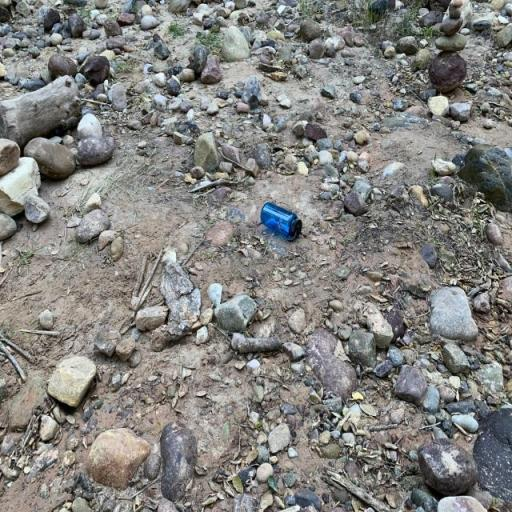bottle: (261, 202, 302, 242)
